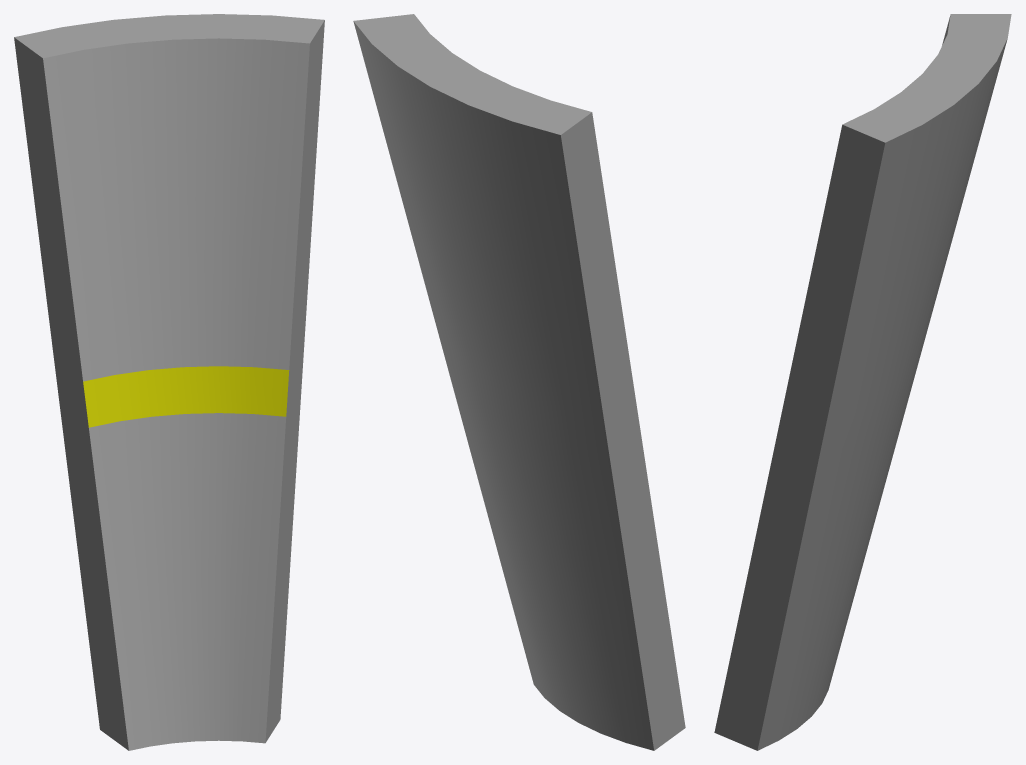
File: Wall_Concave_45.fbx
3 renders of one model, left to right at view 1: azimuth 30°, elevation 25°; view 2: azimuth 150°, elevation 25°; view 3: azimuth 270°, elevation 25°, orthographic. The views are drawn at different scales.
Visible parts, largest first — view 1: Wall_Concave_45; view 2: Wall_Concave_45; view 3: Wall_Concave_45.
Boxes of the visible parts, x1,y1,x2,y2 form: Wall_Concave_45: (14, 14, 324, 750); Wall_Concave_45: (353, 14, 685, 750); Wall_Concave_45: (714, 14, 1011, 750).
Bounding box in the file's own units: 2.5 × 6 × 2.44.
